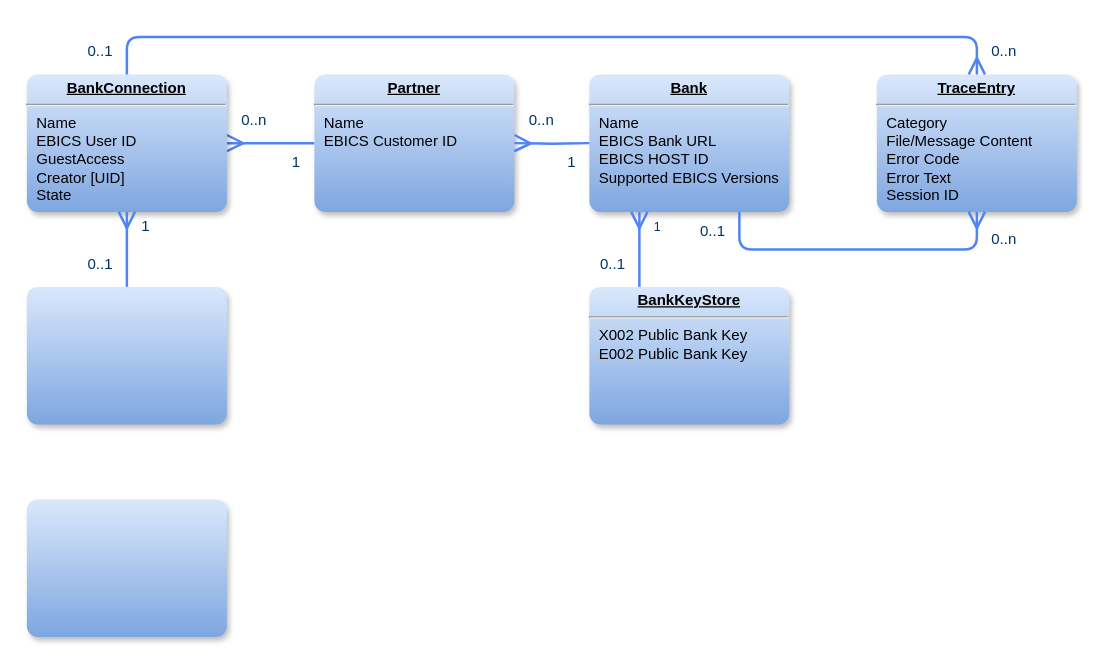
Image size: 1105x666. Some labels were removed from this diagram. Here are the shapes that lost their labels. From the top down, the centre of each, then its label:
At (127,356): "UserKeyStore A005 Key pair X002 Key pair E002 Key pair".
At (127,569): "UserSettings User [UID] Pain001 Settings MT101 Settings General Settings".
